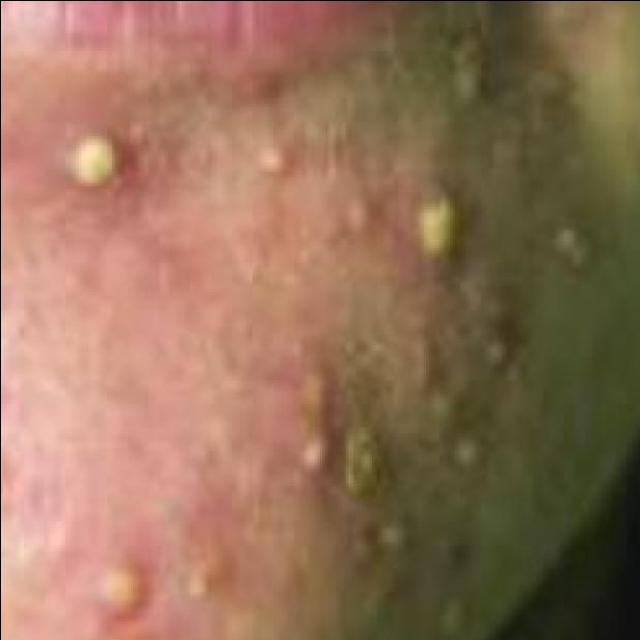pustule: (352, 167, 496, 271), (34, 103, 141, 207), (63, 543, 151, 622)
